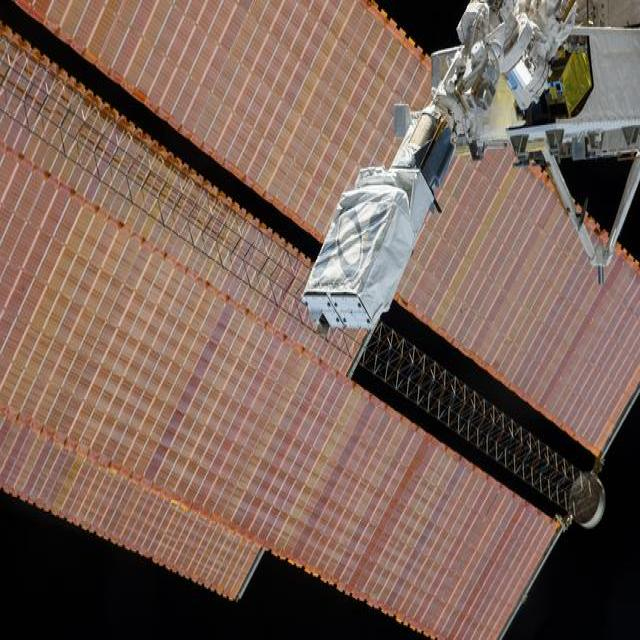medium_debris: (0, 13, 579, 633), (302, 0, 640, 327), (302, 0, 573, 329)
